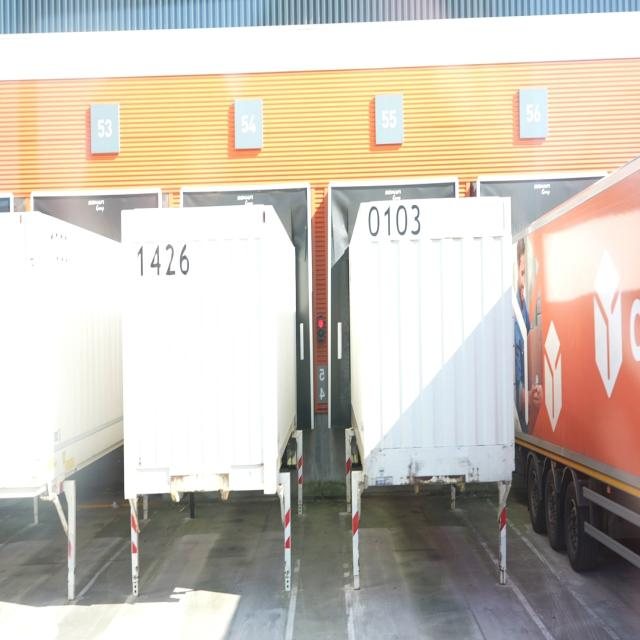Code: (133, 234, 193, 283), (364, 201, 424, 240)
